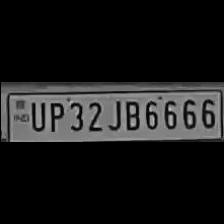2: (84, 97, 103, 132)
3: (64, 98, 84, 132)
6: (141, 97, 159, 131), (160, 97, 178, 131), (178, 96, 196, 130), (198, 95, 216, 129)
B: (122, 97, 140, 130)
J: (104, 96, 122, 132)
P: (44, 99, 64, 133)
U: (27, 98, 45, 132)
